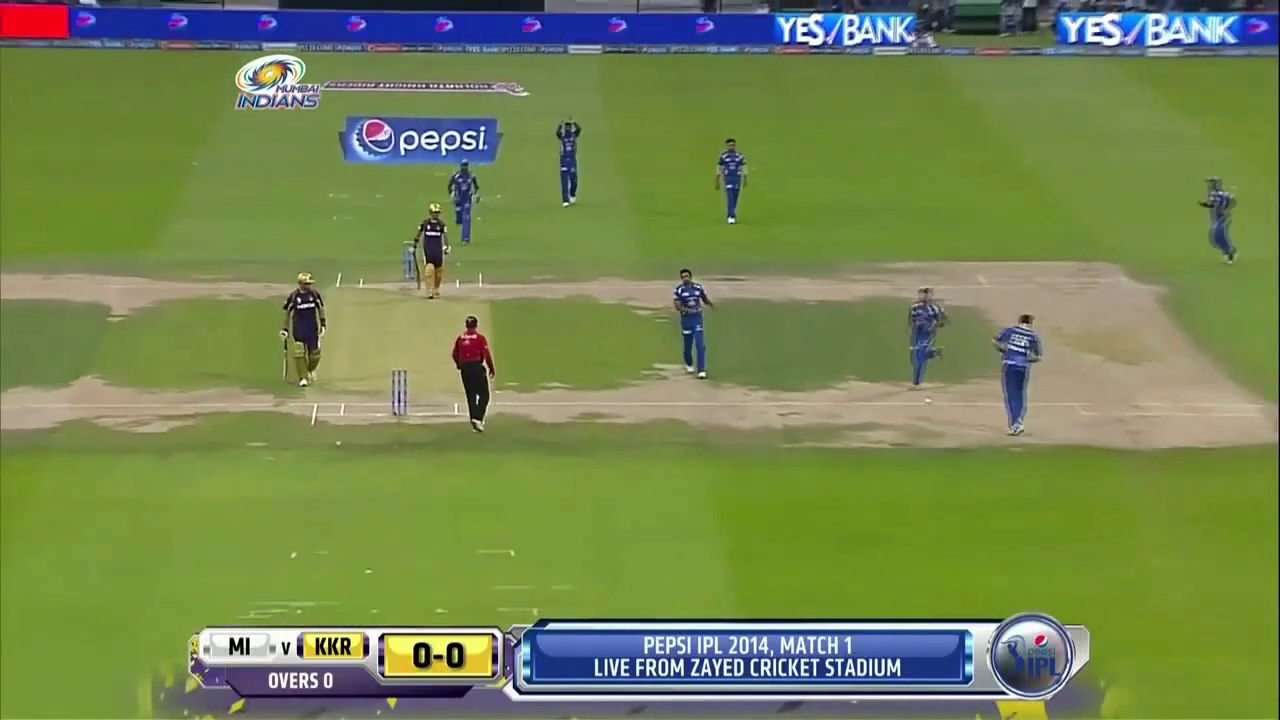bat: (283, 342, 289, 379)
stumps: (389, 367, 409, 418)
